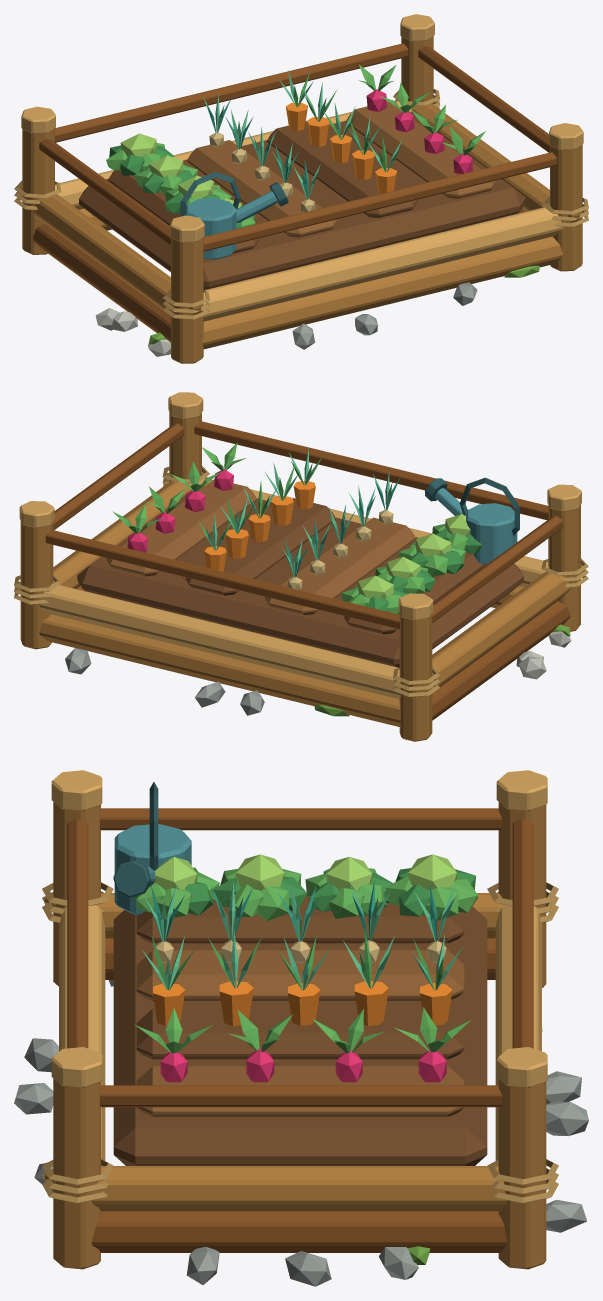
The model's file is raised_garden_bed.glb.
3 renders of one model, top to bottom at view 1: azimuth 30°, elevation 25°; view 2: azimuth 150°, elevation 25°; view 3: azimuth 270°, elevation 25°, orthographic. The views are drawn at different scales.
Visible parts, largest first — view 1: Garden_Soil_Base, Long_Wall_Log.002, Long_Wall_Log, Upper_Long_Rail, Upper_Long_Rail.001, Side_Wall_Log.002, Raised_Furrow_4, Raised_Furrow_2, Raised_Furrow_3, Side_Wall_Log, Front_Left_Post, Front_Right_Post (+22 smaller); view 2: Garden_Soil_Base, Long_Wall_Log.003, Long_Wall_Log.001, Upper_Long_Rail.001, Side_Wall_Log.002, Upper_Long_Rail, Raised_Furrow_2, Raised_Furrow_4, Raised_Furrow_3, Side_Wall_Log, Back_Left_Post, Back_Right_Post (+24 smaller); view 3: Garden_Soil_Base, Side_Wall_Log.003, Side_Wall_Log.001, Raised_Furrow_3, Raised_Furrow_2, Upper_Side_Rail.001, Upper_Side_Rail, Raised_Furrow_1, Raised_Furrow_4, Back_Right_Post, Front_Right_Post, Upper_Long_Rail.001 (+40 smaller).
Boxes of the visible parts, left/top/right/bottom form: Garden_Soil_Base: left=79, top=107, right=525, bottom=289; Long_Wall_Log.002: left=202, top=206, right=563, bottom=321; Long_Wall_Log: left=202, top=236, right=563, bottom=349; Upper_Long_Rail: left=203, top=152, right=556, bottom=251; Upper_Long_Rail.001: left=55, top=43, right=408, bottom=142; Side_Wall_Log.002: left=33, top=194, right=170, bottom=310; Raised_Furrow_4: left=346, top=101, right=496, bottom=198; Raised_Furrow_2: left=187, top=140, right=337, bottom=237; Raised_Furrow_3: left=267, top=121, right=417, bottom=217; Side_Wall_Log: left=33, top=223, right=170, bottom=342; Front_Left_Post: left=171, top=237, right=203, bottom=363; Front_Right_Post: left=550, top=145, right=582, bottom=271; Garden_Soil_Base: left=77, top=484, right=523, bottom=667; Long_Wall_Log.003: left=39, top=583, right=400, bottom=699; Long_Wall_Log.001: left=39, top=614, right=400, bottom=726; Upper_Long_Rail.001: left=45, top=529, right=399, bottom=629; Side_Wall_Log.002: left=432, top=571, right=570, bottom=687; Upper_Long_Rail: left=194, top=421, right=548, bottom=519; Raised_Furrow_2: left=265, top=517, right=415, bottom=614; Raised_Furrow_4: left=106, top=479, right=256, bottom=576; Raised_Furrow_3: left=185, top=498, right=335, bottom=595; Side_Wall_Log: left=432, top=601, right=570, bottom=720; Back_Left_Post: left=399, top=613, right=432, bottom=741; Back_Right_Post: left=20, top=521, right=53, bottom=649; Garden_Soil_Base: left=113, top=906, right=487, bottom=1165; Side_Wall_Log.003: left=91, top=1166, right=507, bottom=1211; Side_Wall_Log.001: left=91, top=1211, right=507, bottom=1252; Raised_Furrow_3: left=136, top=1008, right=464, bottom=1059; Raised_Furrow_2: left=136, top=950, right=464, bottom=1000; Upper_Side_Rail.001: left=100, top=1085, right=502, bottom=1107; Upper_Side_Rail: left=100, top=808, right=502, bottom=830; Raised_Furrow_1: left=136, top=894, right=464, bottom=943; Raised_Furrow_4: left=136, top=1066, right=464, bottom=1116; Back_Right_Post: left=498, top=1079, right=546, bottom=1269; Front_Right_Post: left=53, top=1078, right=100, bottom=1269; Upper_Long_Rail.001: left=512, top=819, right=533, bottom=1048.
Bounding box in the file's own units: 5.39 × 1.87 × 4.
